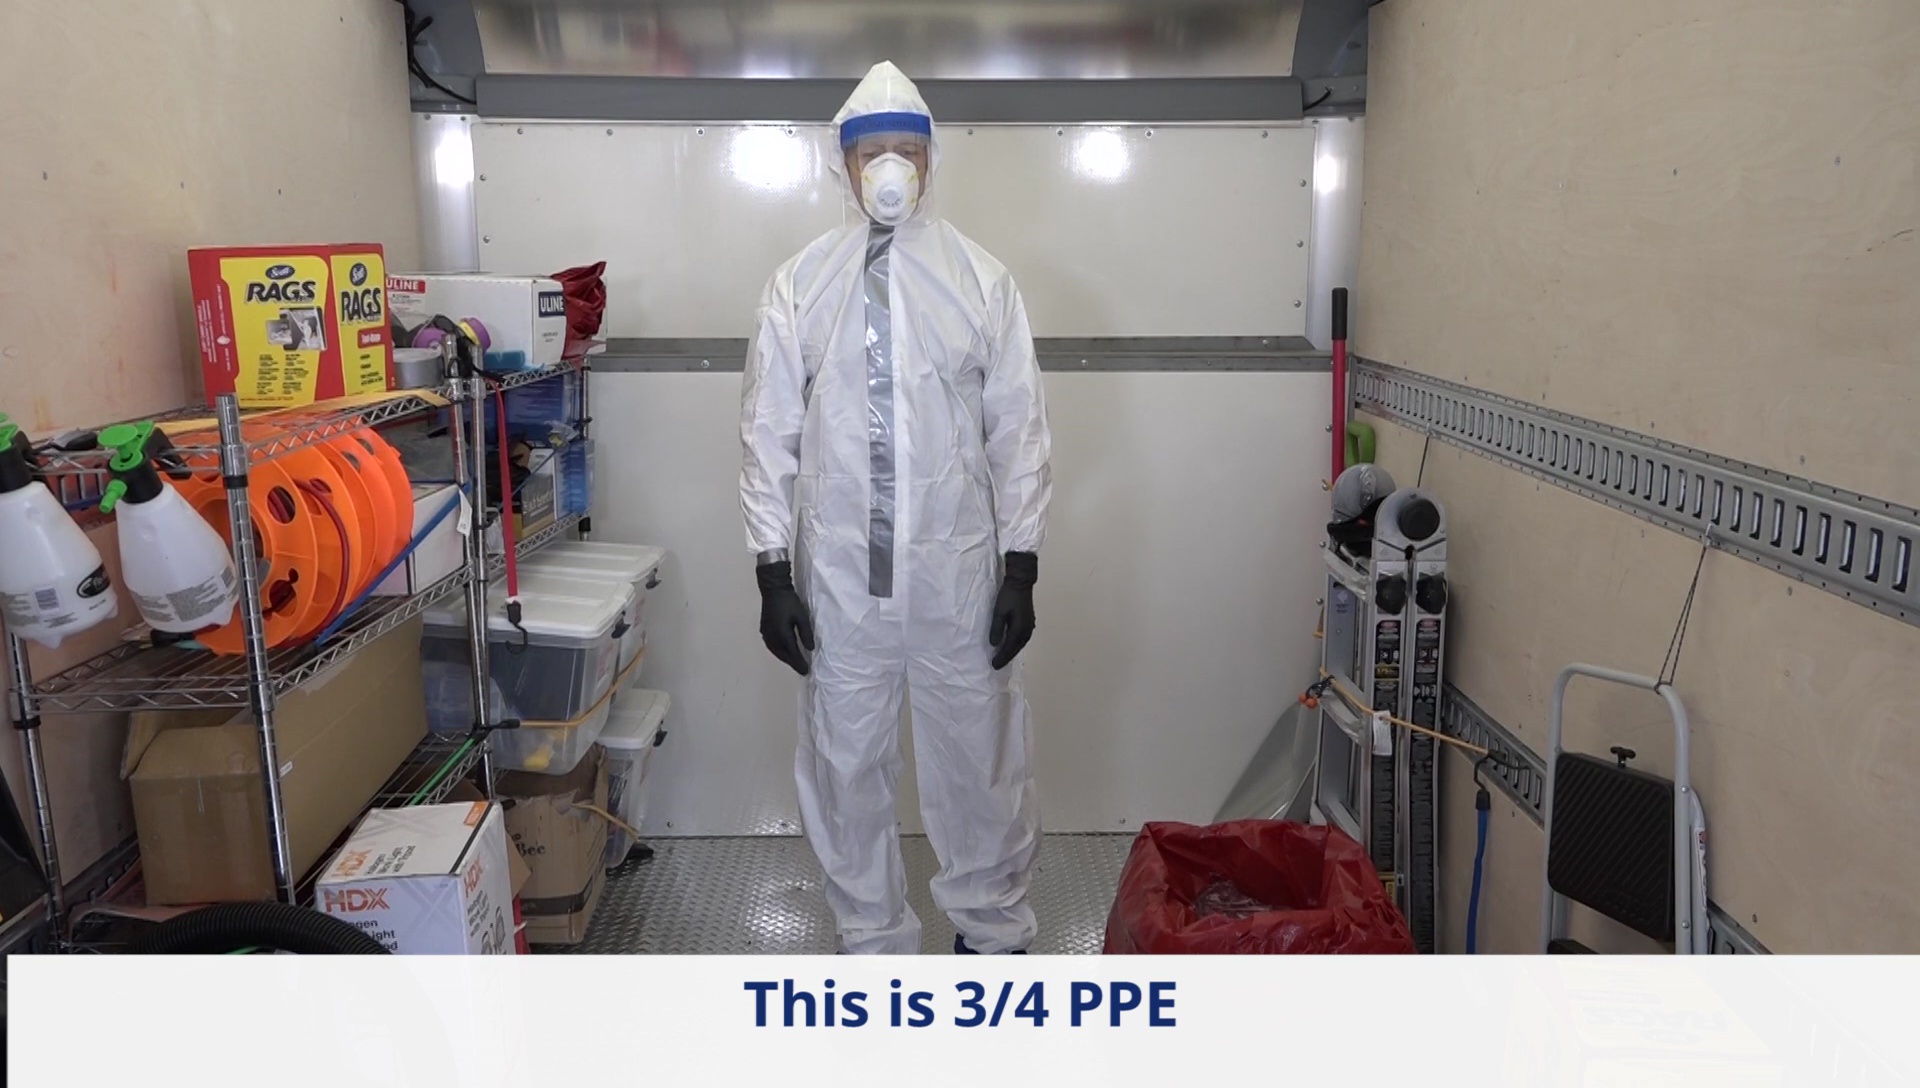Coverall: (734, 57, 1057, 951)
Face_Shield: (837, 109, 939, 244)
Gloves: (751, 564, 819, 682), (988, 551, 1043, 671)
with_mask: (862, 154, 917, 227)
